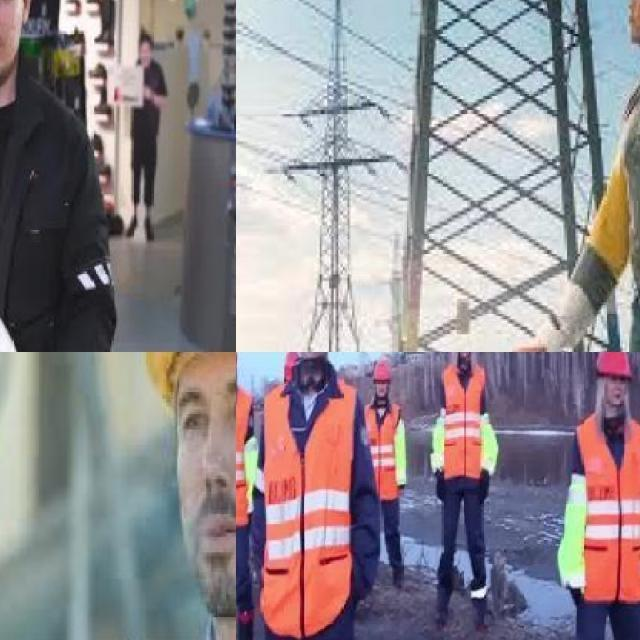apron: (524, 322, 578, 352), (568, 583, 582, 608)
